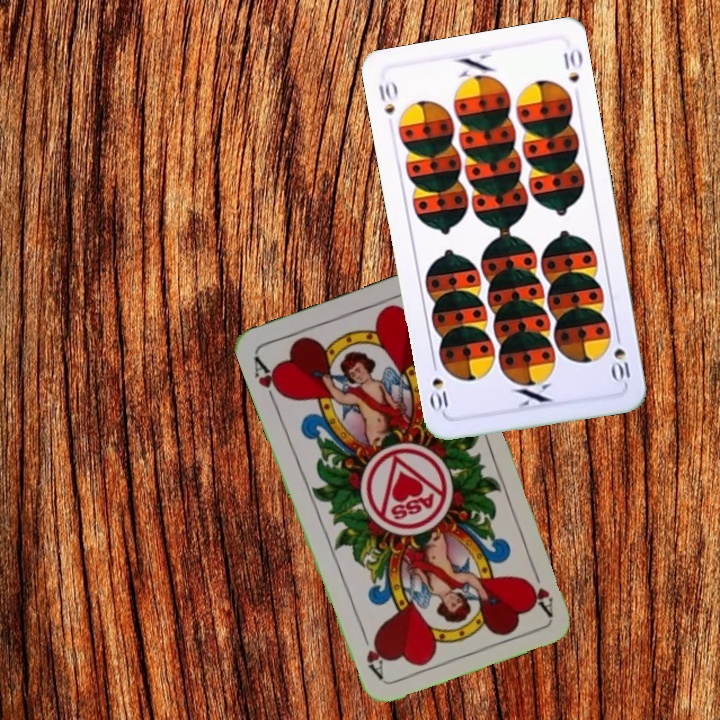HA: (249, 352, 287, 409), (523, 560, 556, 617)
S10: (608, 327, 633, 386), (374, 77, 400, 119)
